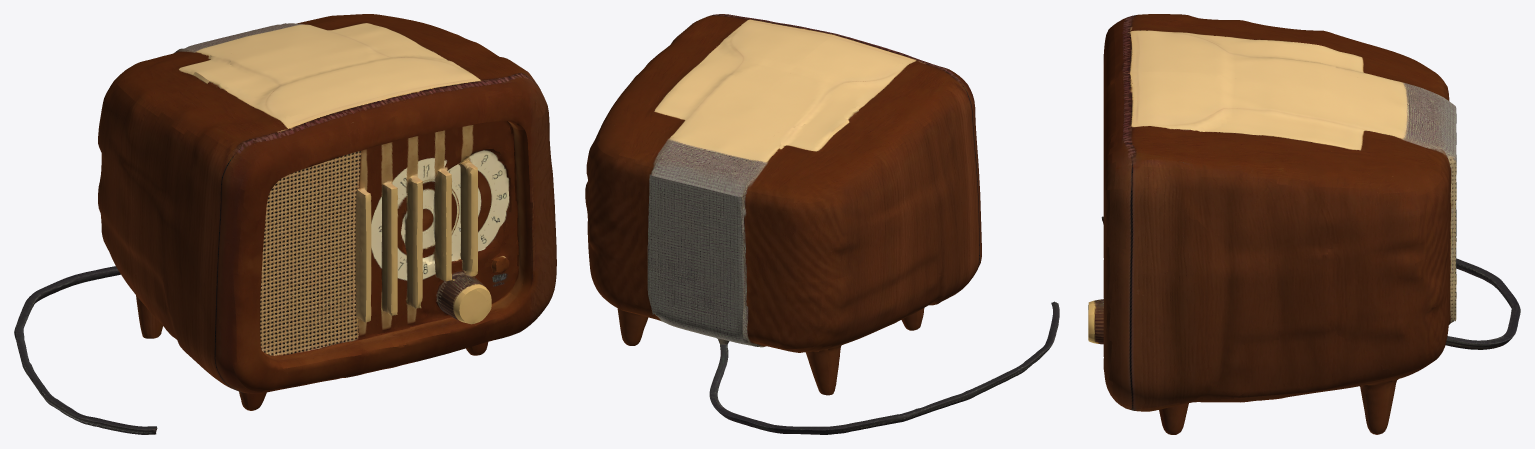
Rendered from radio.glb.
3 views of the same model, side by side, from view 1: azimuth 30°, elevation 25°; view 2: azimuth 150°, elevation 25°; view 3: azimuth 270°, elevation 25° (orthographic). The views are drawn at different scales.
Size of the model in its own units: 1.9 by 1.19 by 1.53.
1 material, 1 textured.
